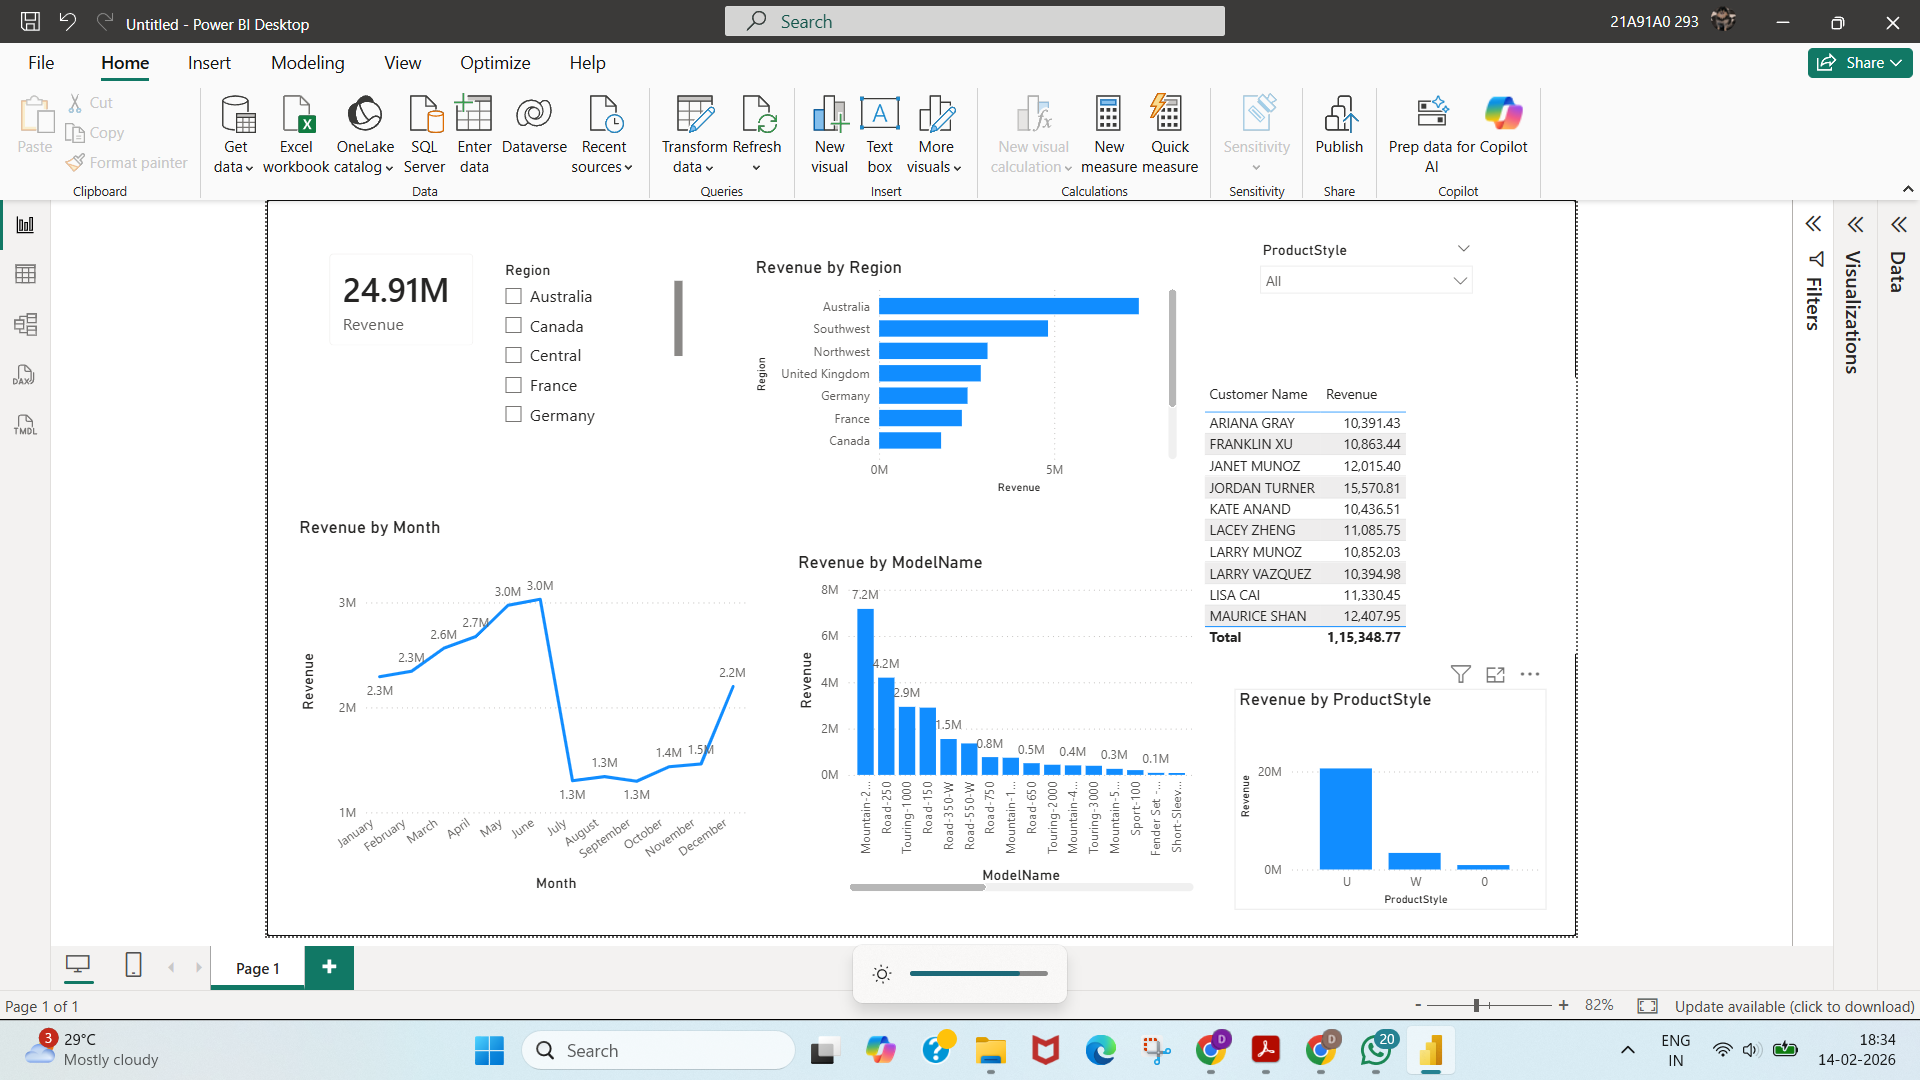

The page's visual inventory and layout, read from the dashboard file:
{"tool":"powerbi","page":{"name":"Page 1","canvas":[1280,720],"ordinal":0},"visuals":[{"type":"cardVisual","fields":{"Data":["FactSales.Revenue"]},"box":[43.9,35.7,175.6,124.9],"z":0},{"type":"lineChart","fields":{"Y":["FactSales.Revenue"],"Category":["AdventureWorks Calendar Lookup.Date.Variation.Date Hierarchy.Month"]},"box":[26.5,309.7,446.9,371.7],"z":1},{"type":"clusteredColumnChart","fields":{"Category":["AdventureWorks Product Lookup.ModelName"],"Y":["FactSales.Revenue"]},"box":[514.8,343.7,396.8,337.8],"z":3},{"type":"clusteredBarChart","fields":{"Y":["FactSales.Revenue"],"Category":["AdventureWorks Territory Lookup.Region"]},"box":[473.5,54.6,421.8,237.5],"z":6},{"type":"clusteredColumnChart","fields":{"Category":["AdventureWorks Product Lookup.ProductStyle"],"Y":["FactSales.Revenue"]},"box":[946.9,477.9,303.8,216.8],"z":7},{"type":"tableEx","fields":{"Values":["AdventureWorks Customer Lookup.Customer Name","FactSales.Revenue"]},"box":[911,173.6,369.3,270.2],"z":8},{"type":"slicer","fields":{"Values":["AdventureWorks Territory Lookup.Region"]},"box":[219.8,54.6,191.7,175.5],"z":9},{"type":"slicer","fields":{"Values":["AdventureWorks Product Lookup.ProductStyle"]},"box":[961.7,35.4,228.6,131.3],"z":10}]}

Visuals, with their boxes on the page's 1280x720 design canvas (x1, y1, x2, y2). These are canvas units, not pixel positions in the 1920x1080 screenshot, which may show the page scaled, cropped or inside an application window:
cardVisual - FactSales.Revenue: bbox=(44, 36, 220, 161)
lineChart - FactSales.Revenue x AdventureWorks Calendar Lookup.Date.Variation.Date Hierarchy.Month: bbox=(26, 310, 473, 681)
clusteredColumnChart - AdventureWorks Product Lookup.ModelName x FactSales.Revenue: bbox=(515, 344, 912, 682)
clusteredBarChart - FactSales.Revenue x AdventureWorks Territory Lookup.Region: bbox=(474, 55, 895, 292)
clusteredColumnChart - AdventureWorks Product Lookup.ProductStyle x FactSales.Revenue: bbox=(947, 478, 1251, 695)
tableEx - AdventureWorks Customer Lookup.Customer Name x FactSales.Revenue: bbox=(911, 174, 1280, 444)
slicer - AdventureWorks Territory Lookup.Region: bbox=(220, 55, 412, 230)
slicer - AdventureWorks Product Lookup.ProductStyle: bbox=(962, 35, 1190, 167)
